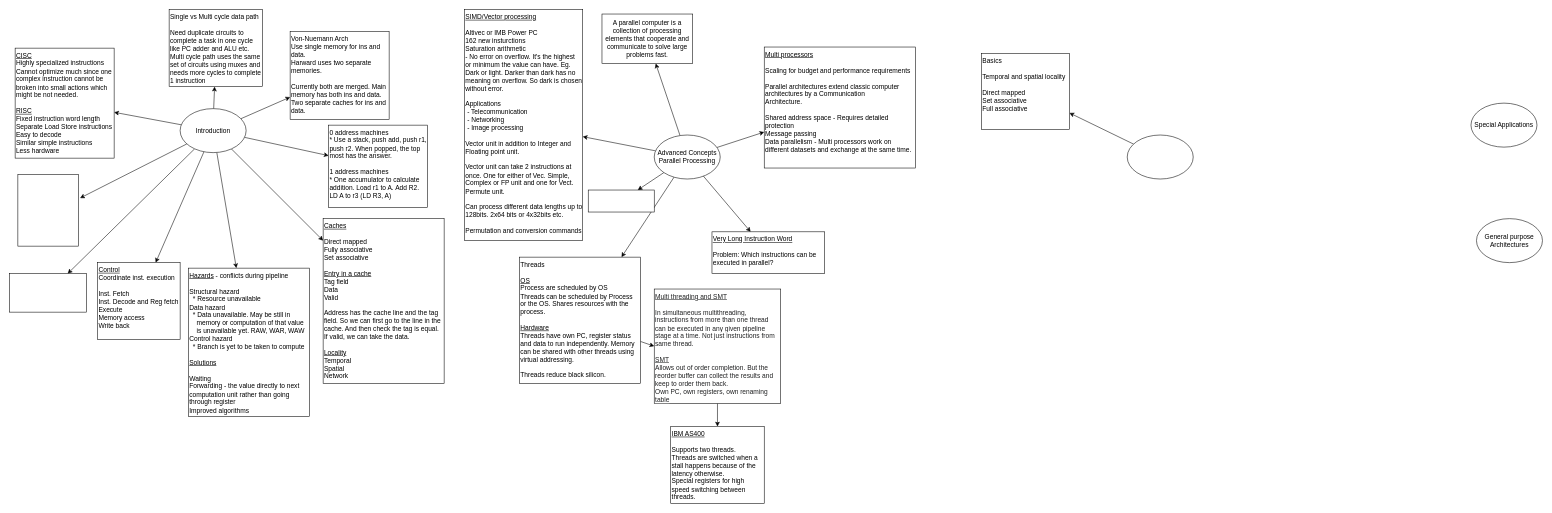
Image size: 1552x513. Some labels were removed from this diagram. Here are the shapes that lost their labels. From the top down, the centre of each, then its label:
pixel 1160 156: Advanced Concepts Caches
pixel 47 210: Five Components Memory Input Output Datapath Control
pixel 621 200: Multi threading Multi processors
pixel 48 292: Data path Hardware required for computation. Adder, Reg, ALU and data buses.
